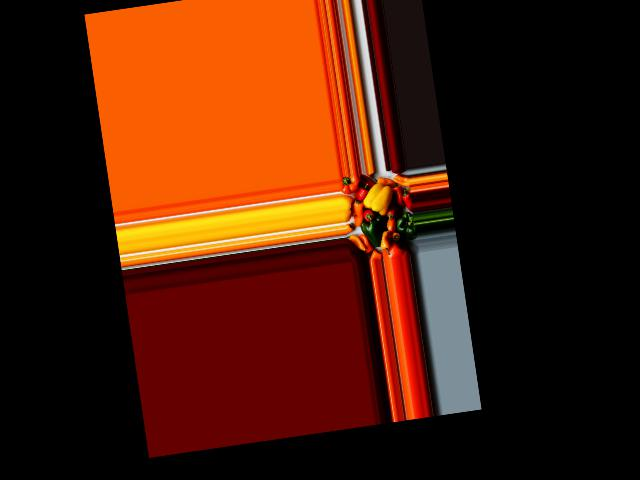bell_pepper: (398, 187, 414, 211)
